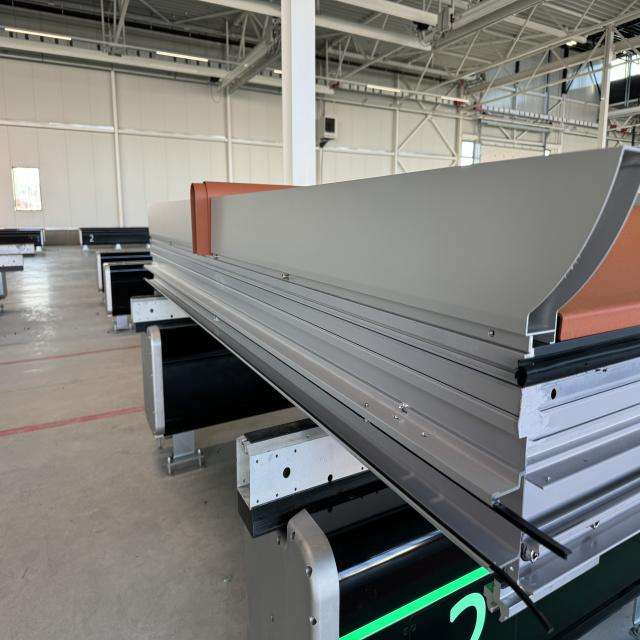vijak_na_pola_pritegnut: (274, 264, 299, 289)
vijak_nedostaje: (480, 318, 508, 350)
